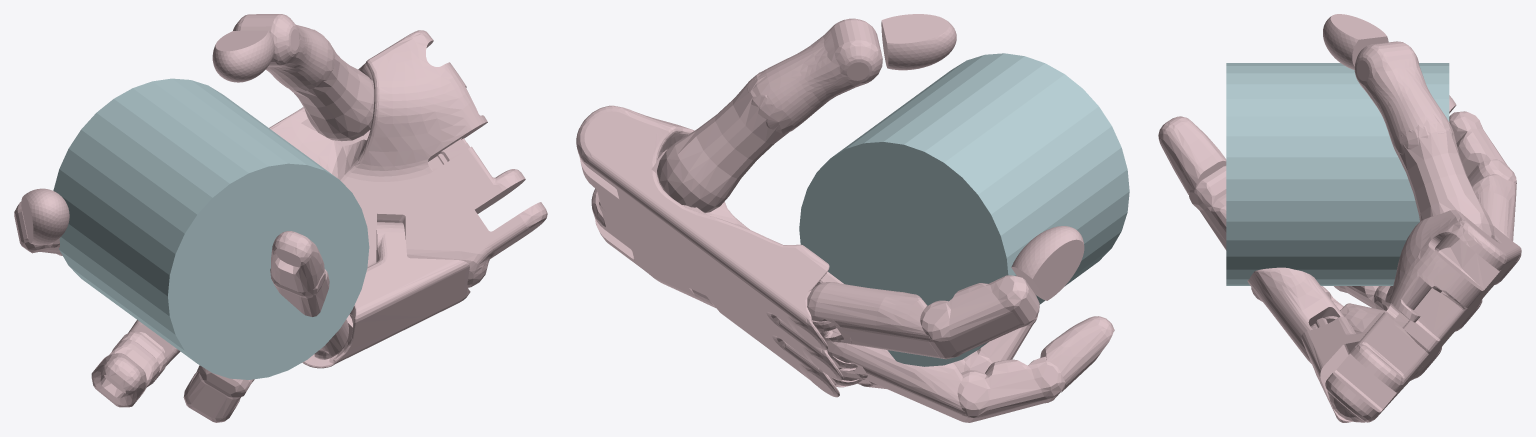
File: grasp_5.glb
The picture shows the model from 3 angles, left to right: view 1: azimuth 30°, elevation 25°; view 2: azimuth 150°, elevation 25°; view 3: azimuth 270°, elevation 25°; orthographic projection. The views are drawn at different scales.
Parts seen in each view (by area): view 1: world; view 2: world; view 3: world.
Part boxes in pixels (bbox=[...]): world: bbox=[14, 14, 547, 422]; world: bbox=[576, 14, 1129, 422]; world: bbox=[1158, 14, 1521, 422].
Size of the model in its own units: 0.1943 by 0.1376 by 0.1303.
